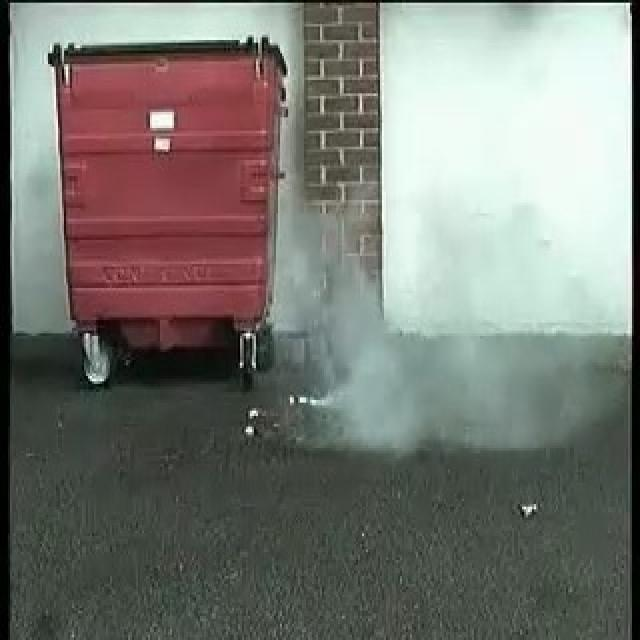smoke: (282, 222, 429, 447)
